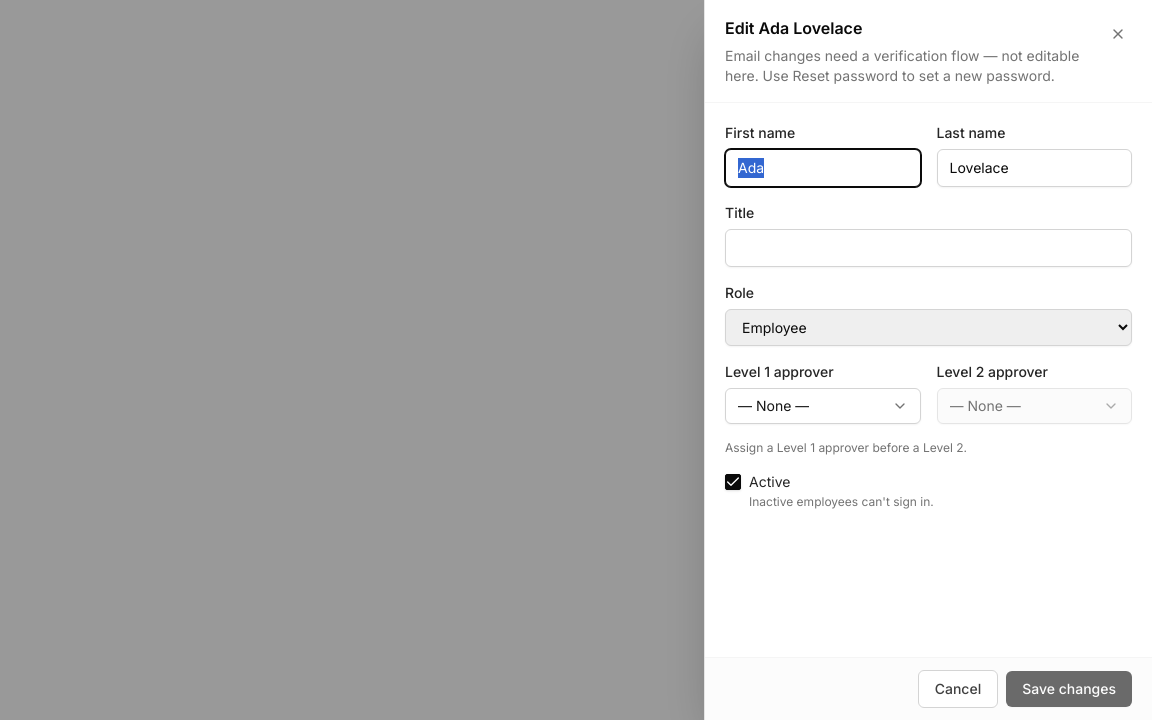
it: EditUserDrawer — approver chain › excludes the employee being edited from the approver options
The image size is (1152, 720).
Click the button with aria-label "level 1 approver".
click(823, 406)  # box 725,388 -> 920,424
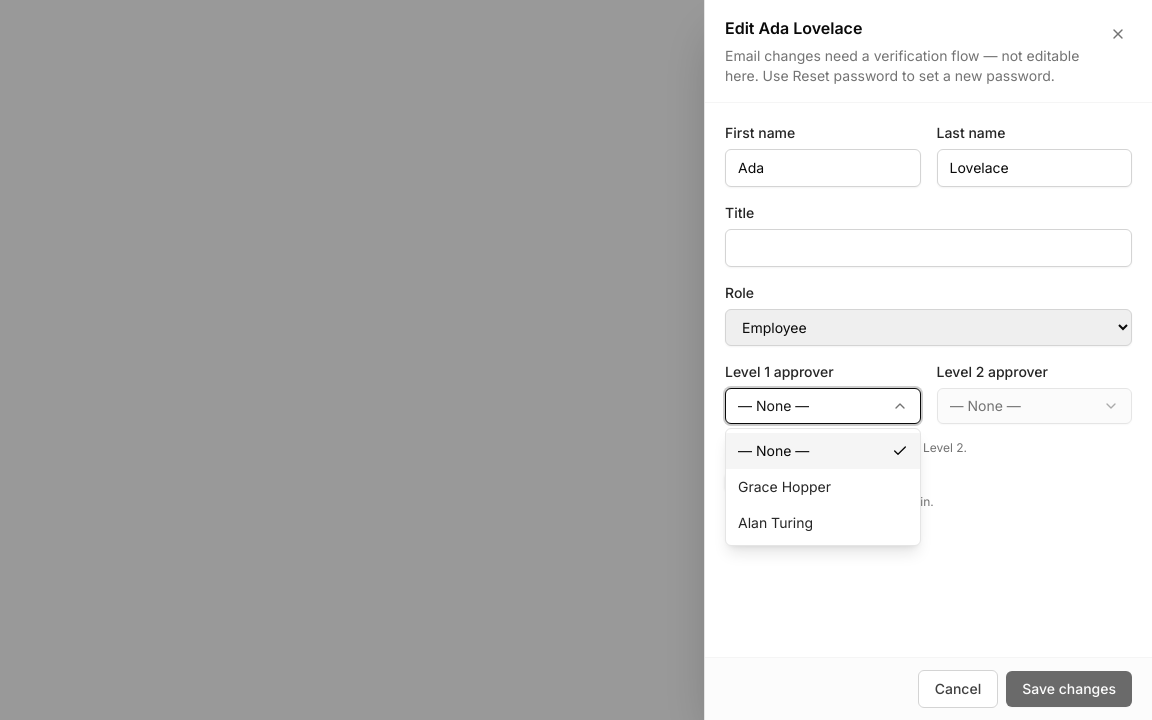
Expected: the text "Grace Hopper" is shown, 738,478 -> 831,495
